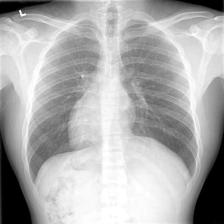normal: (23, 14, 202, 188)
